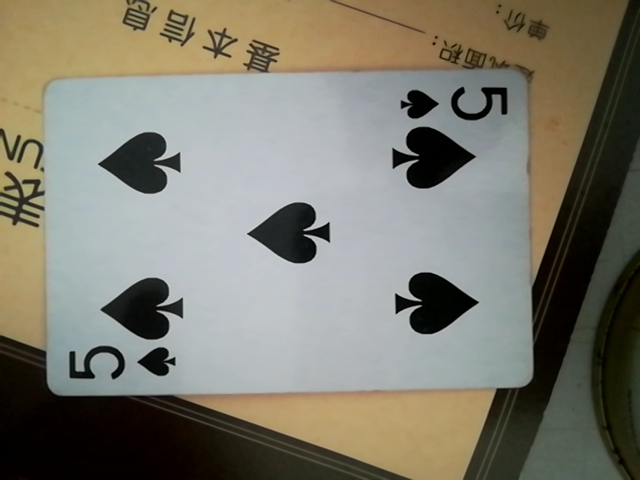ht 5: (35, 68, 547, 408)
